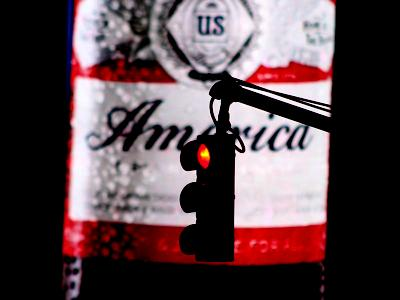International Road Signal Light: (171, 129, 243, 265)
